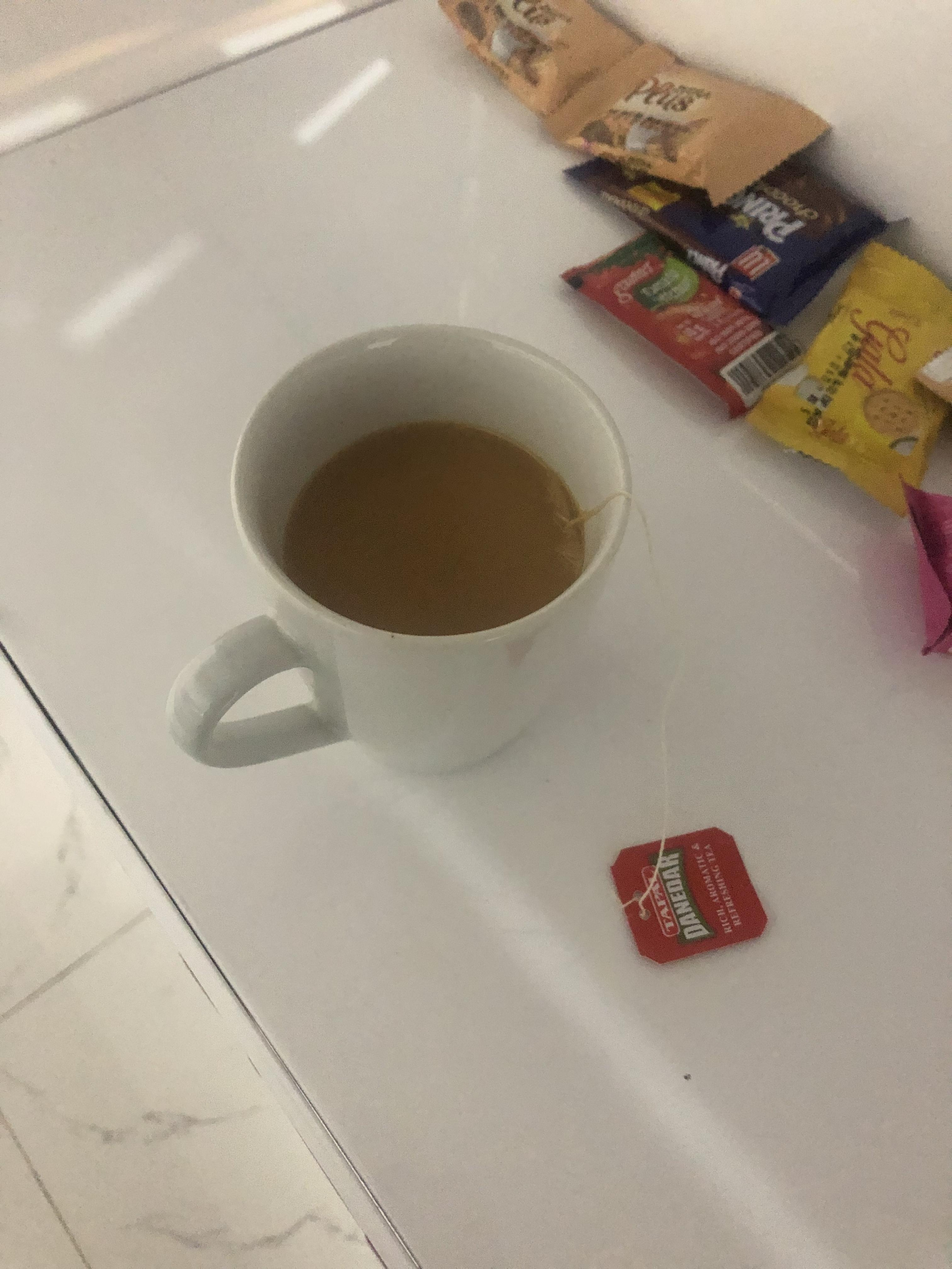cup-handle: (155, 310, 640, 793)
